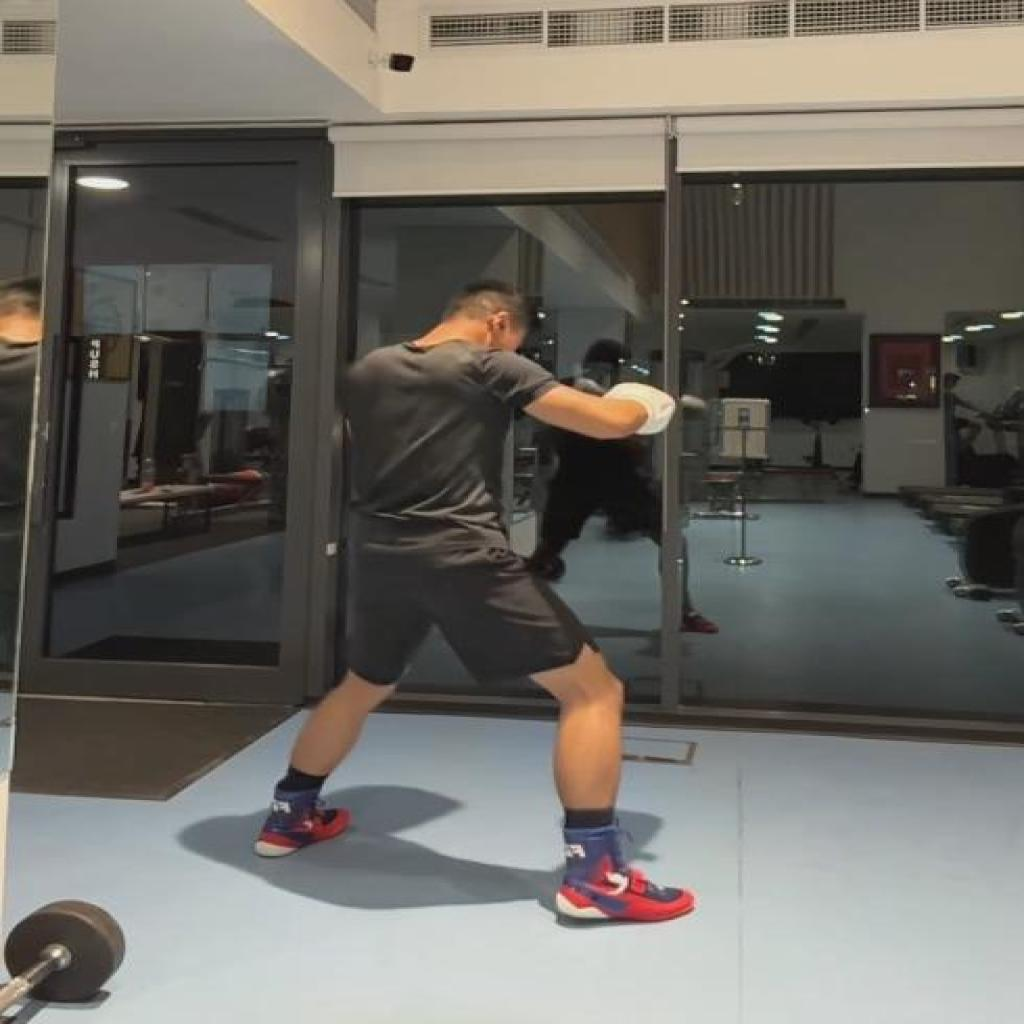hook: (249, 277, 696, 925)
